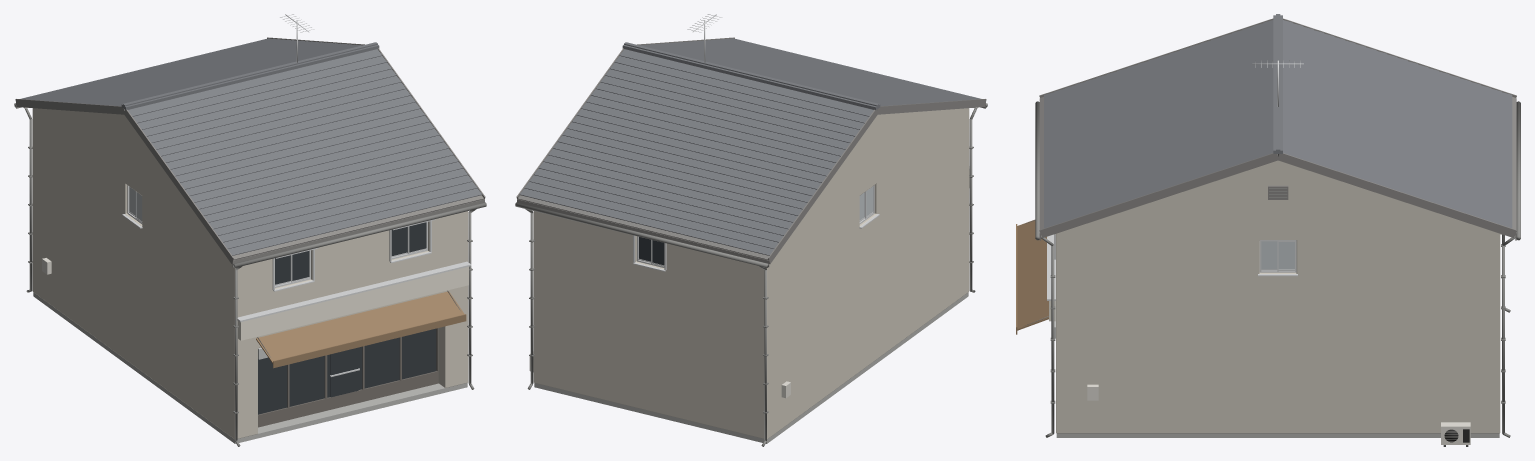
The model's file is blk_clinic.glb.
3 views of the same model, side by side, from view 1: azimuth 30°, elevation 25°; view 2: azimuth 150°, elevation 25°; view 3: azimuth 270°, elevation 25° (orthographic). The views are drawn at different scales.
Visible parts, largest first — view 1: blk_clinic; view 2: blk_clinic; view 3: blk_clinic.
Boxes of the visible parts, <box> form: blk_clinic: <box>14,14,486,446</box>; blk_clinic: <box>515,14,987,446</box>; blk_clinic: <box>1016,14,1520,446</box>.
Bounding box in the file's own units: 8.94 × 10.13 × 13.63.
